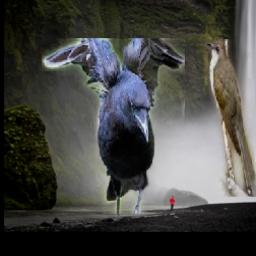Crow: (43, 39, 186, 215)
Cuckoo: (206, 40, 256, 198)
